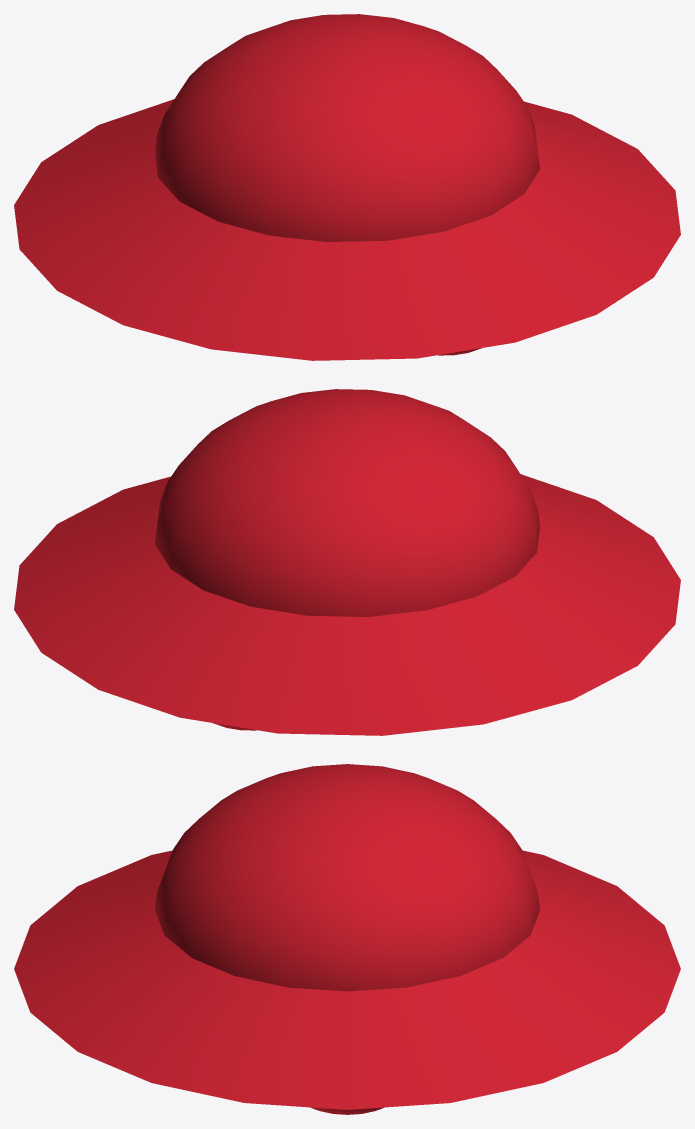
The model's file is UFO_Red.obj.
3 renders of one model, top to bottom at view 1: azimuth 30°, elevation 25°; view 2: azimuth 150°, elevation 25°; view 3: azimuth 270°, elevation 25°, orthographic.
Visible parts, largest first — view 1: pCylinder1, pSphere1; view 2: pCylinder1, pSphere1; view 3: pCylinder1, pSphere1.
Part boxes in pixels (box(x1,y1,x2,y2)): pCylinder1: box(14, 99, 680, 360); pSphere1: box(155, 14, 539, 241); pCylinder1: box(14, 474, 680, 735); pSphere1: box(155, 389, 539, 616); pCylinder1: box(14, 850, 680, 1109); pSphere1: box(155, 764, 539, 991).
Bounding box in the file's own units: 3.46 × 1.34 × 3.46.
1 material, 1 textured.
